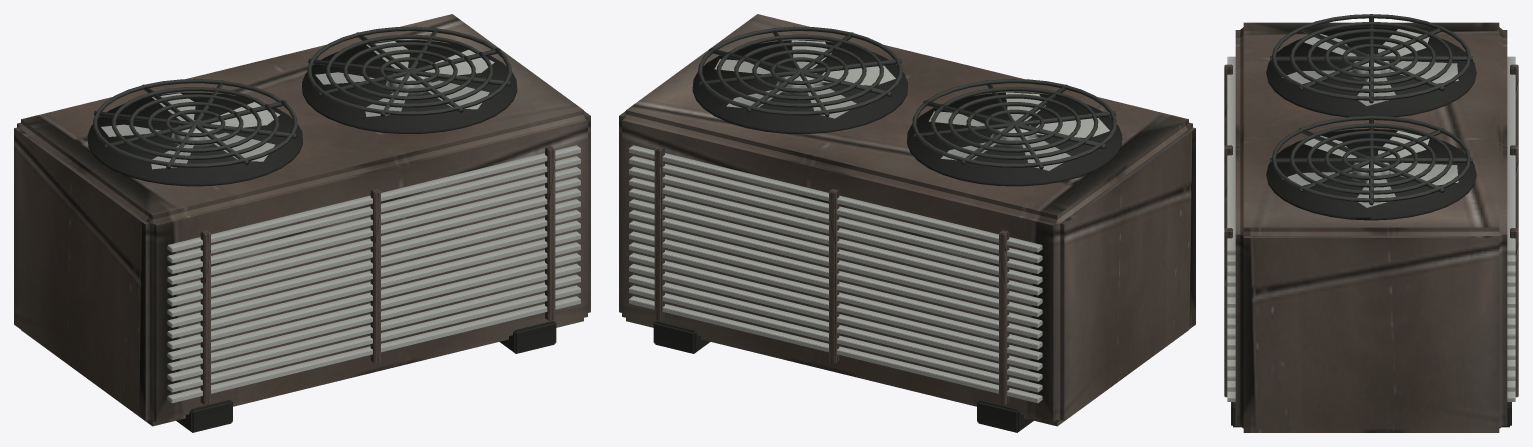
Rendered from condenser-bank.glb.
3 views of the same model, side by side, from view 1: azimuth 30°, elevation 25°; view 2: azimuth 150°, elevation 25°; view 3: azimuth 270°, elevation 25° (orthographic). The views are drawn at different scales.
Visible parts, largest first — view 1: Frame, Fan2, Fan1; view 2: Frame, Fan2, Fan1; view 3: Frame, Fan2, Fan1.
Boxes of the visible parts, box(x1,y1,x2,y2) form: Frame: box(14, 14, 590, 432); Fan2: box(315, 41, 494, 116); Fan1: box(101, 93, 280, 169); Frame: box(619, 14, 1195, 432); Fan2: box(714, 40, 895, 118); Fan1: box(928, 92, 1109, 170); Frame: box(1224, 14, 1518, 432); Fan2: box(1282, 130, 1458, 207); Fan1: box(1282, 29, 1458, 105).
Size of the model in its own units: 2.12 by 1.1 by 1.25.
5 materials, 1 textured.
